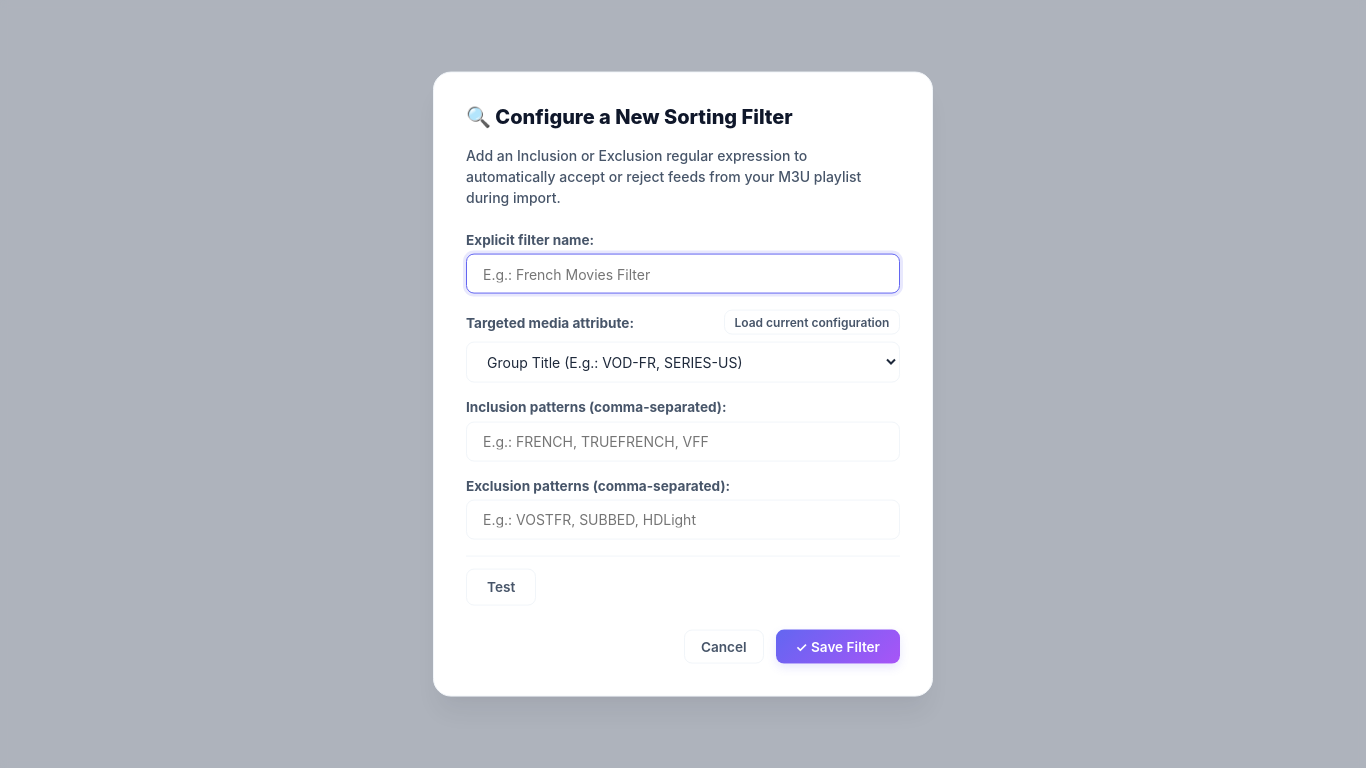
Test: CreateFilterDialog › loads the origin configuration into the form when there is no active override
What coordinates should you click on to do the following:
click the button "Load current configuration"
I would click on:
 (812, 322)
Its box is [724,310,900,335].
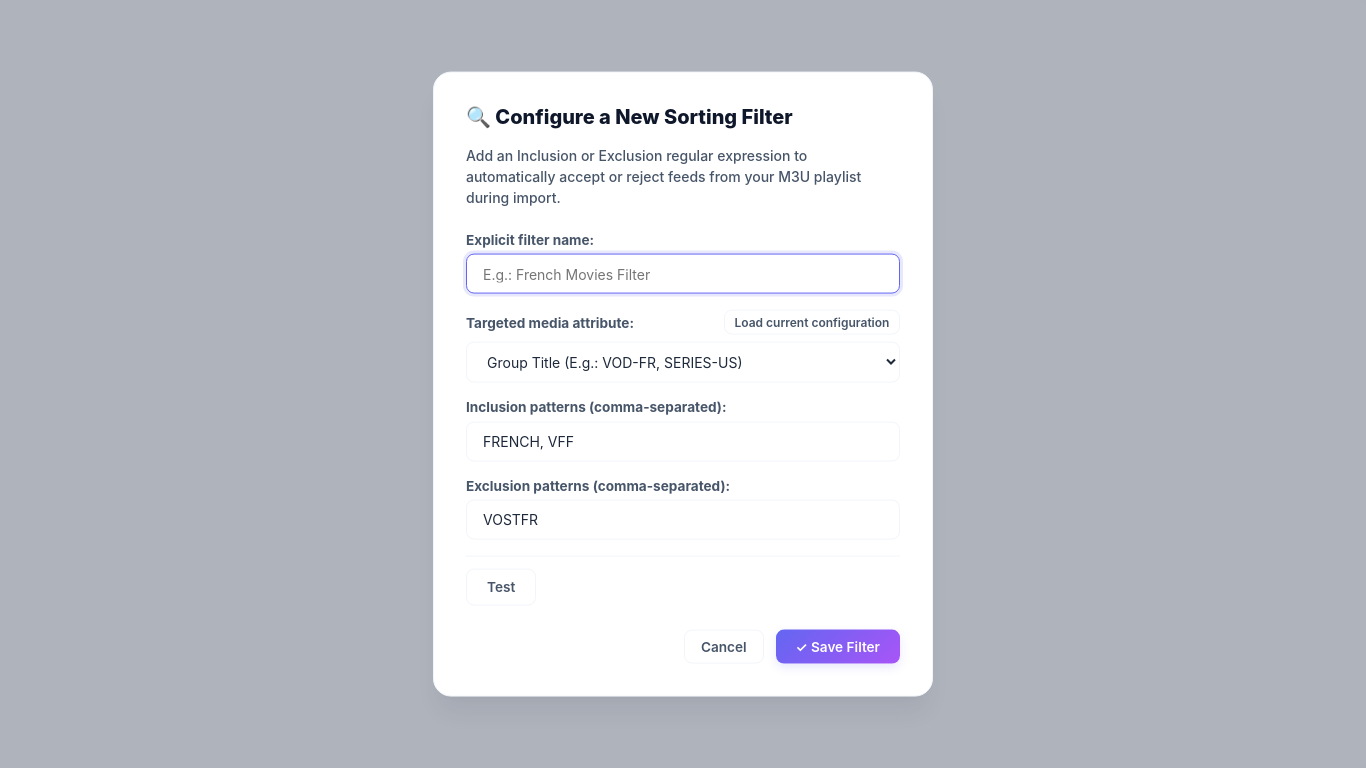
Expected: the field with placeholder "E.g.: FRENCH, TRUEFRENCH, VFF" below "Inclusion patterns (comma-separated):" holds "FRENCH, VFF", [466,421,900,461]
Expected: the field with placeholder "E.g.: VOSTFR, SUBBED, HDLight" below "Exclusion patterns (comma-separated):" holds "VOSTFR", [466,500,900,539]
